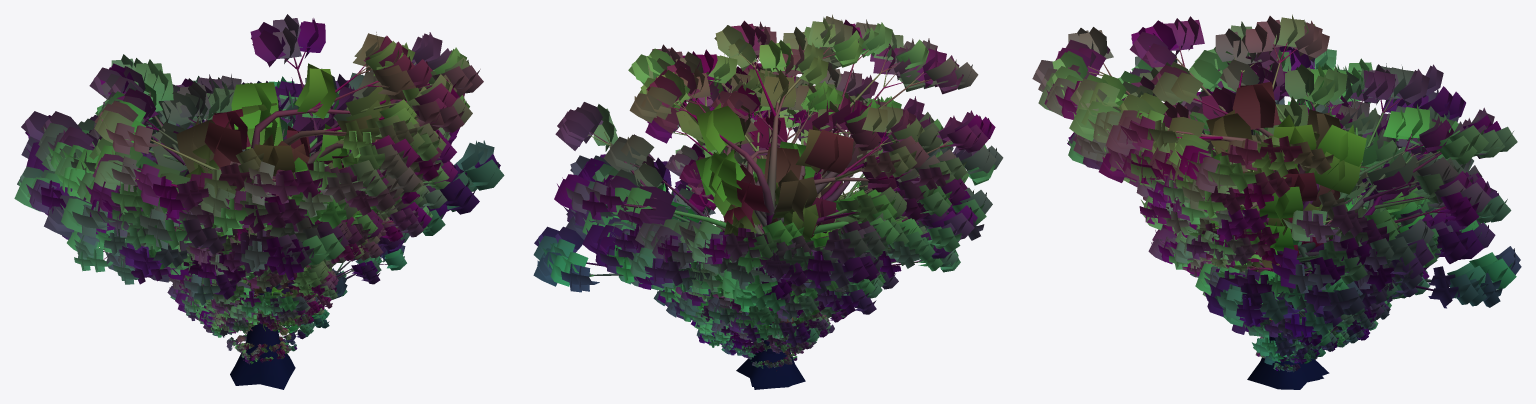
Rendered from trees_terebinth.glb.
3 views of the same model, side by side, from view 1: azimuth 30°, elevation 25°; view 2: azimuth 150°, elevation 25°; view 3: azimuth 270°, elevation 25° (orthographic). The views are drawn at different scales.
Parts seen in each view (by area): view 1: terebinth_ancient_04_LOD0, terebinth_ancient_03_LOD0, terebinth_ancient_02_LOD0, terebinth_mature_04_LOD0, terebinth_mature_02_LOD0, terebinth_ancient_01_LOD0, terebinth_mature_03_LOD0, terebinth_young_04_LOD0, terebinth_mature_01_LOD0, terebinth_young_03_LOD0, terebinth_young_02_LOD0, terebinth_young_01_LOD0 (+1 smaller); view 2: terebinth_ancient_04_LOD0, terebinth_ancient_03_LOD0, terebinth_ancient_02_LOD0, terebinth_mature_04_LOD0, terebinth_mature_03_LOD0, terebinth_ancient_01_LOD0, terebinth_mature_02_LOD0, terebinth_mature_01_LOD0, terebinth_young_04_LOD0, terebinth_young_03_LOD0, terebinth_young_01_LOD0, terebinth_young_02_LOD0; view 3: terebinth_ancient_04_LOD0, terebinth_ancient_03_LOD0, terebinth_ancient_02_LOD0, terebinth_ancient_01_LOD0, terebinth_mature_04_LOD0, terebinth_mature_02_LOD0, terebinth_mature_03_LOD0, terebinth_mature_01_LOD0, terebinth_young_03_LOD0, terebinth_young_04_LOD0.
Boxes of the visible parts, x1=… form: terebinth_ancient_04_LOD0: x1=21, y1=14, x2=483, y2=389; terebinth_ancient_03_LOD0: x1=14, y1=54, x2=504, y2=289; terebinth_ancient_02_LOD0: x1=77, y1=82, x2=459, y2=340; terebinth_mature_04_LOD0: x1=62, y1=184, x2=447, y2=305; terebinth_mature_02_LOD0: x1=149, y1=217, x2=406, y2=303; terebinth_ancient_01_LOD0: x1=67, y1=126, x2=457, y2=285; terebinth_mature_03_LOD0: x1=177, y1=202, x2=432, y2=289; terebinth_young_04_LOD0: x1=167, y1=267, x2=347, y2=322; terebinth_mature_01_LOD0: x1=201, y1=217, x2=381, y2=319; terebinth_young_03_LOD0: x1=178, y1=288, x2=329, y2=332; terebinth_young_02_LOD0: x1=204, y1=295, x2=332, y2=337; terebinth_young_01_LOD0: x1=196, y1=297, x2=315, y2=342; terebinth_ancient_04_LOD0: x1=533, y1=14, x2=1003, y2=386; terebinth_ancient_03_LOD0: x1=566, y1=62, x2=995, y2=299; terebinth_ancient_02_LOD0: x1=607, y1=79, x2=955, y2=389; terebinth_mature_04_LOD0: x1=618, y1=142, x2=920, y2=314; terebinth_mature_03_LOD0: x1=630, y1=162, x2=857, y2=328; terebinth_ancient_01_LOD0: x1=646, y1=99, x2=960, y2=352; terebinth_mature_02_LOD0: x1=653, y1=224, x2=850, y2=347; terebinth_mature_01_LOD0: x1=657, y1=213, x2=811, y2=328; terebinth_young_04_LOD0: x1=691, y1=313, x2=845, y2=347; terebinth_young_03_LOD0: x1=694, y1=311, x2=846, y2=347; terebinth_young_01_LOD0: x1=731, y1=311, x2=829, y2=357; terebinth_young_02_LOD0: x1=721, y1=319, x2=817, y2=355; terebinth_ancient_04_LOD0: x1=1032, y1=27, x2=1521, y2=389; terebinth_ancient_03_LOD0: x1=1067, y1=14, x2=1517, y2=326; terebinth_ancient_02_LOD0: x1=1129, y1=88, x2=1466, y2=381; terebinth_ancient_01_LOD0: x1=1124, y1=102, x2=1435, y2=382; terebinth_mature_04_LOD0: x1=1143, y1=165, x2=1429, y2=314; terebinth_mature_02_LOD0: x1=1182, y1=237, x2=1377, y2=356; terebinth_mature_03_LOD0: x1=1148, y1=190, x2=1429, y2=327; terebinth_mature_01_LOD0: x1=1190, y1=207, x2=1396, y2=343; terebinth_young_03_LOD0: x1=1264, y1=319, x2=1378, y2=364; terebinth_young_04_LOD0: x1=1202, y1=267, x2=1375, y2=359.
Size of what is drawn, in the model's own units: 36.22 by 24.62 by 34.63.
